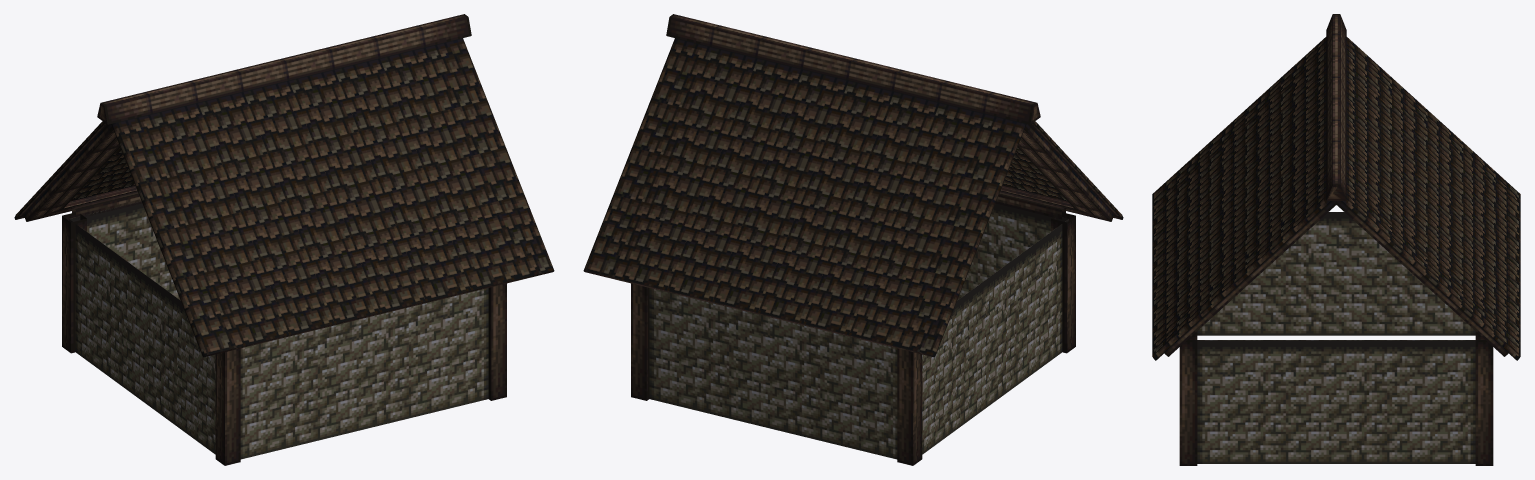
File: EnvBdgMD_River_A_Outdoor_6W6D.FBX
The picture shows the model from 3 angles, left to right: view 1: azimuth 30°, elevation 25°; view 2: azimuth 150°, elevation 25°; view 3: azimuth 270°, elevation 25°; orthographic projection. The views are drawn at different scales.
Parts seen in each view (by area): view 1: EnvBdgMD_River_A_Outdoor_6W6D; view 2: EnvBdgMD_River_A_Outdoor_6W6D; view 3: EnvBdgMD_River_A_Outdoor_6W6D.
Boxes of the visible parts, x1,y1,x2,y2 form: EnvBdgMD_River_A_Outdoor_6W6D: (14,14,554,465); EnvBdgMD_River_A_Outdoor_6W6D: (583,14,1123,465); EnvBdgMD_River_A_Outdoor_6W6D: (1152,14,1520,465).
Bounding box in the file's own units: 800 × 655 × 728.
Materials: 1 (1 with a texture image).
